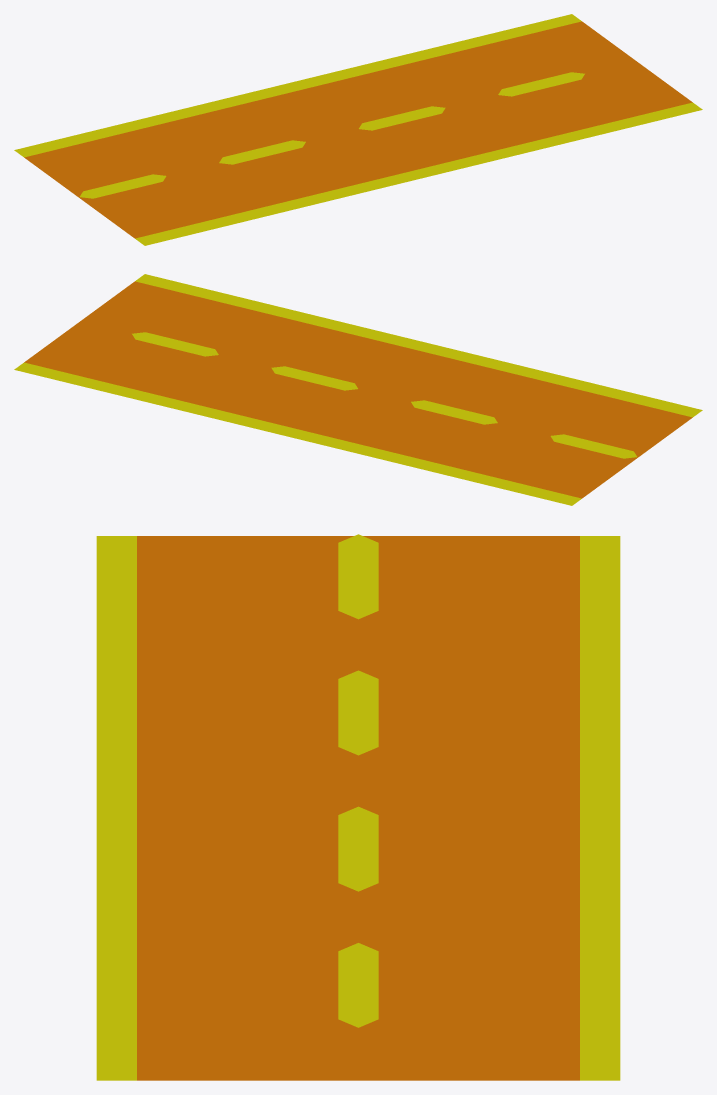
The model's file is Mesh_road_reduced_smaller.fbx.
3 renders of one model, top to bottom at view 1: azimuth 30°, elevation 25°; view 2: azimuth 150°, elevation 25°; view 3: azimuth 270°, elevation 25°, orthographic. The views are drawn at different scales.
Parts seen in each view (by area): view 1: Mesh_road_reduced_smaller; view 2: Mesh_road_reduced_smaller; view 3: Mesh_road_reduced_smaller.
Boxes of the visible parts, x1,y1,x2,y2 form: Mesh_road_reduced_smaller: (14, 14, 702, 245); Mesh_road_reduced_smaller: (14, 274, 702, 505); Mesh_road_reduced_smaller: (96, 534, 620, 1080).
Size of what is drawn, in the model's own units: 1600 by 2.5 by 650.
